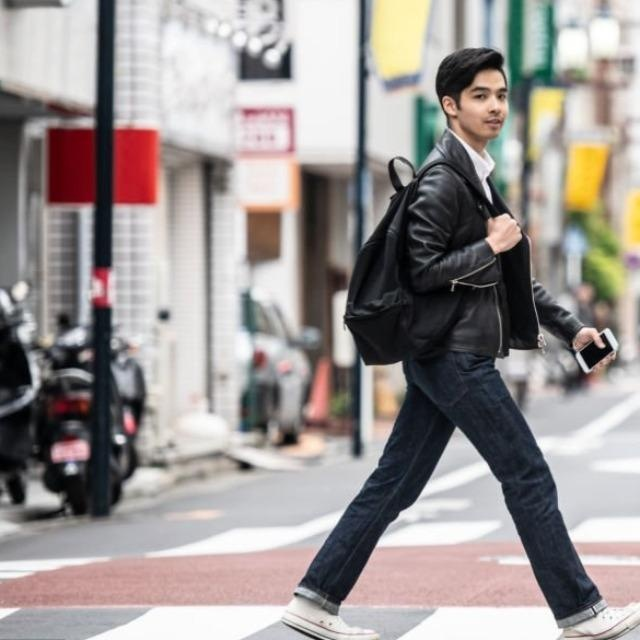Sin_Casco_Mascarrilla: (435, 45, 510, 142)
Sin_Chaleco: (394, 139, 514, 351)
